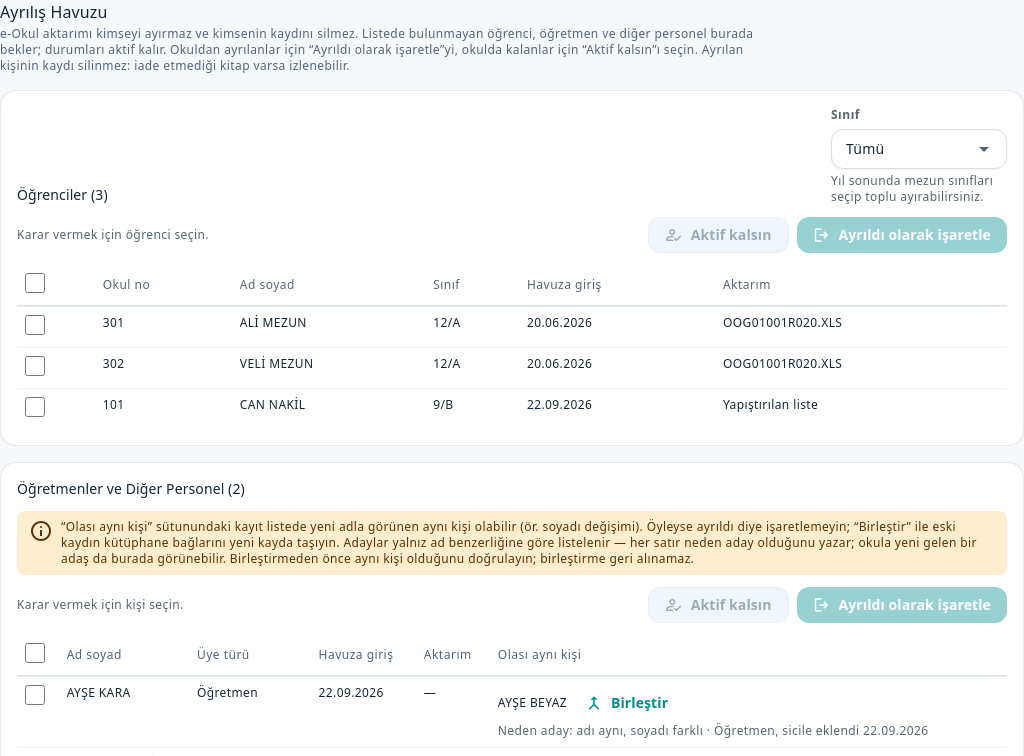
AyrilisHavuzu — karar › yıl sonu: sınıf süzgeciyle mezunlar toplu seçilir, onayla ayrılır (kayıt silinmez)
Expected: the heading "Öğrenciler (3)" is shown, [17, 185, 108, 205]
Select "12/A" in the dropdown labelled "Sınıf". click: (907, 149)
box: [842, 139, 972, 159]
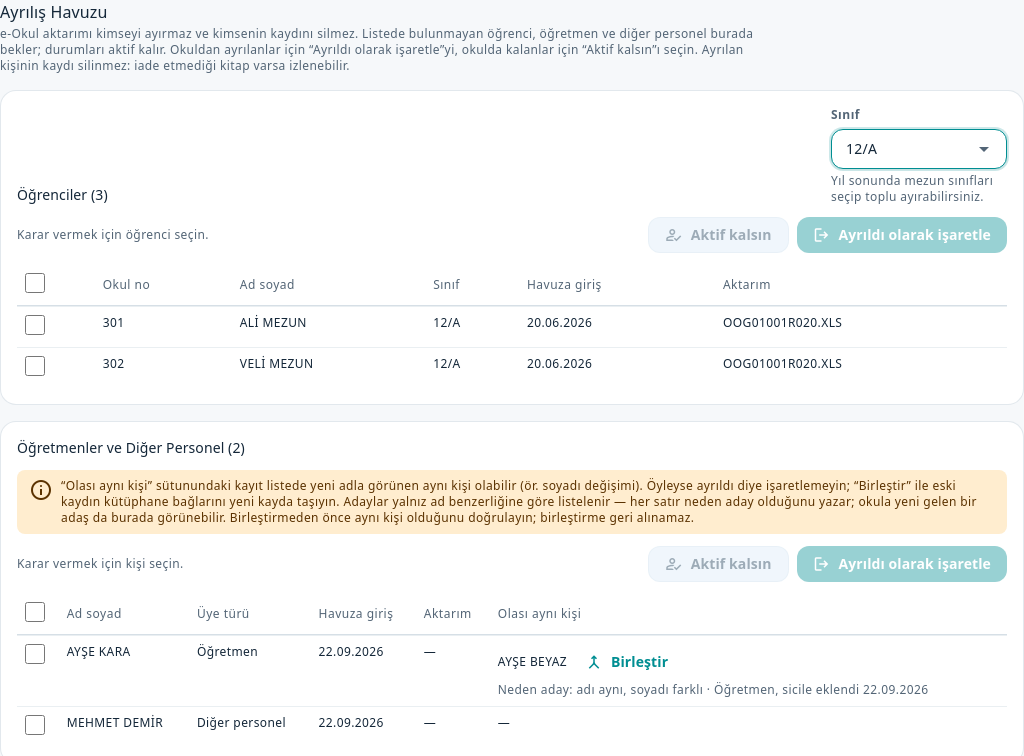
Result: the text "CAN NAKİL" is gone
Click the checkbox named "Görünen öğrencilerin tümünü seç". click: (35, 283)
box: [25, 273, 45, 293]
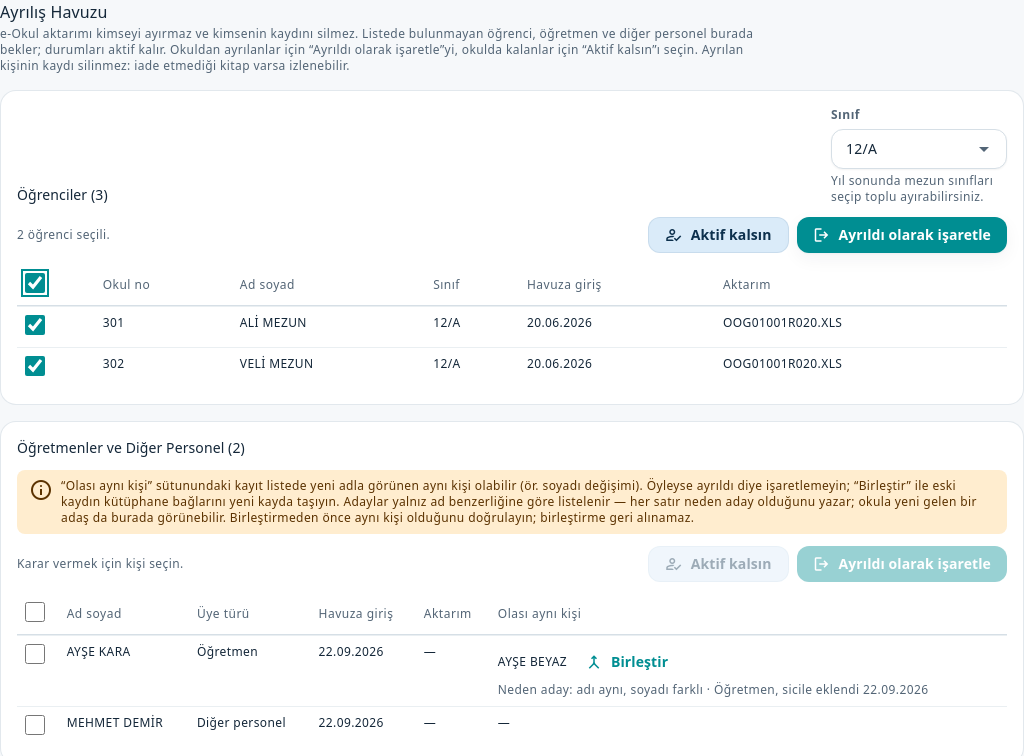
Result: the text "2 öğrenci seçili." is shown at [17, 227, 110, 243]
Click the button "Ayrıldı olarak işaretle" in the row of "2 öğrenci seçili.". click: (902, 235)
box: [796, 217, 1007, 253]
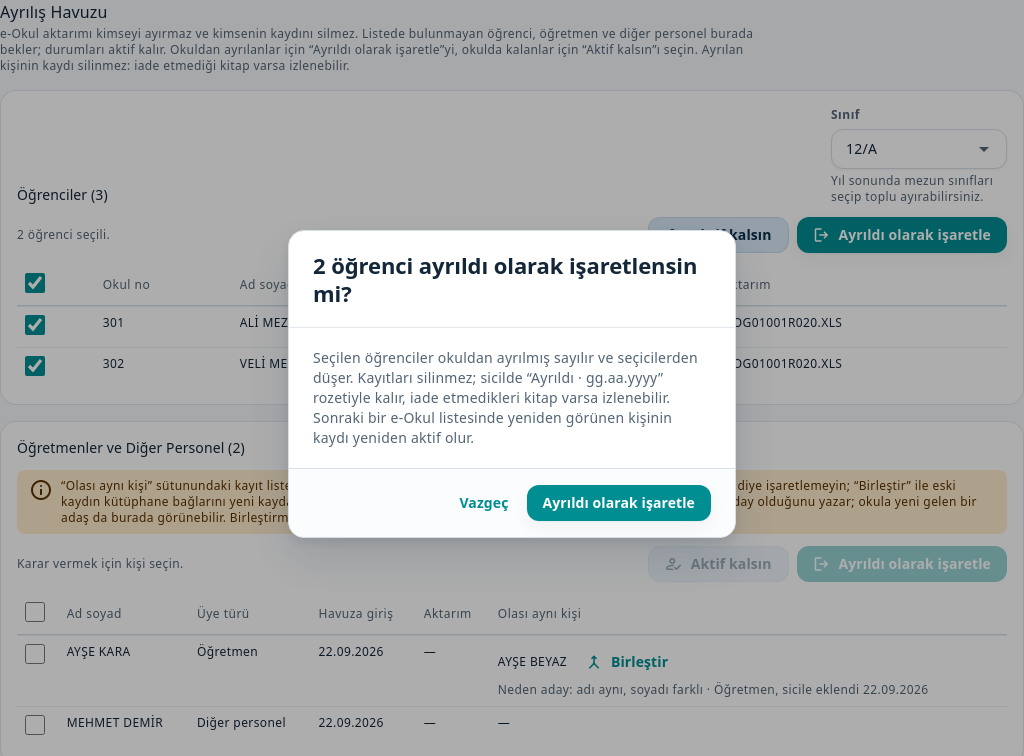
Result: the text "Kayıtları silinmez" is shown at [313, 348, 698, 447]
Click the button "Ayrıldı olarak işaretle". click: (619, 503)
box: [526, 485, 711, 521]
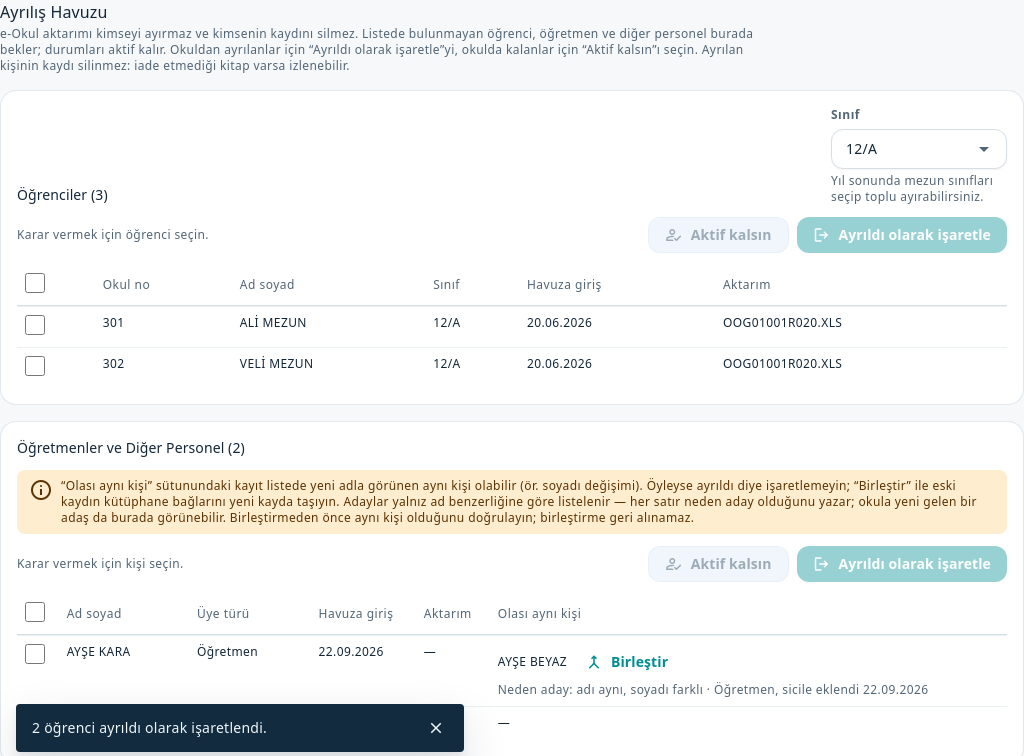
Result: the text "2 öğrenci ayrıldı olarak işaretlendi." is shown at [32, 718, 267, 737]
